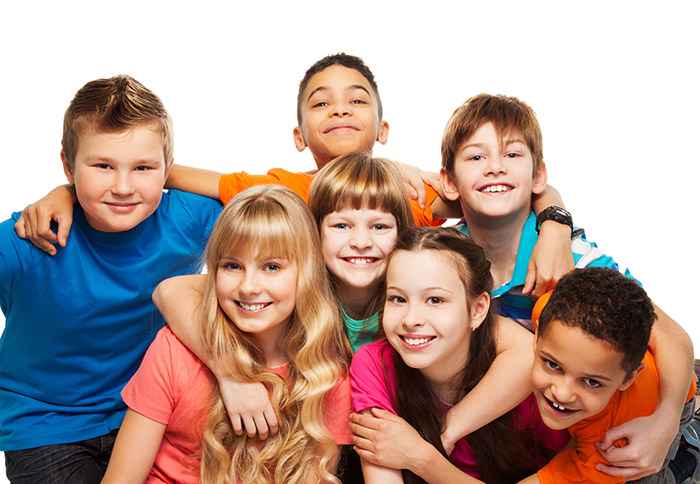human: (2, 70, 229, 484), (108, 183, 345, 484), (172, 28, 482, 202), (344, 221, 548, 484), (505, 261, 700, 484), (425, 88, 624, 291), (293, 148, 403, 347)
